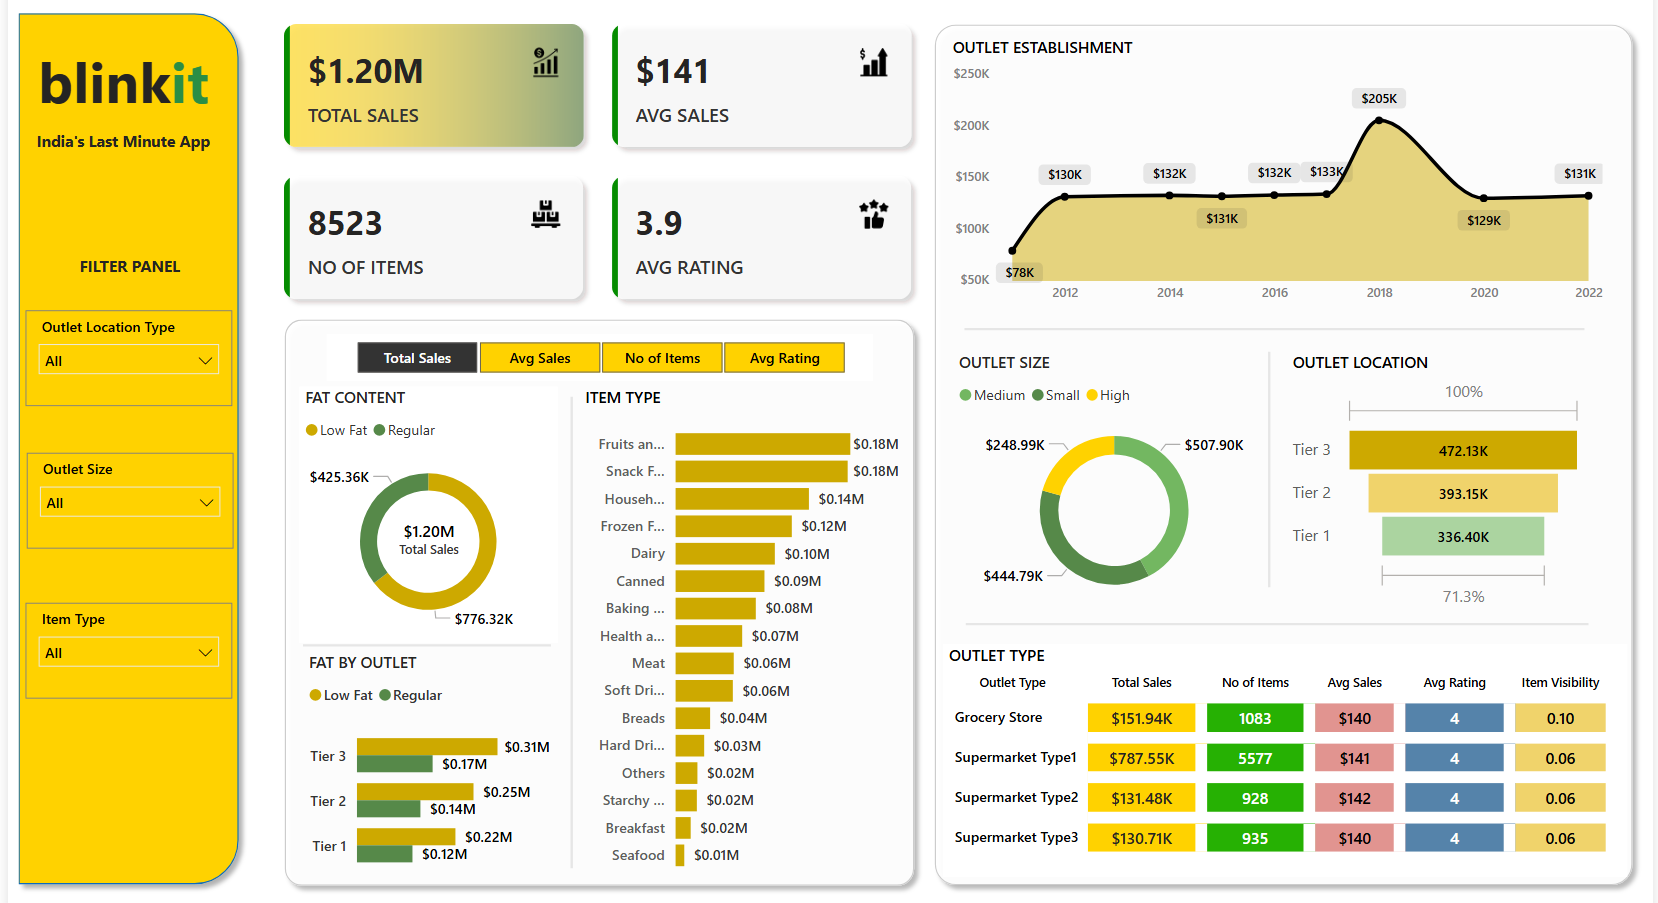

The dashboard page shown, as its layout file describes it:
{"tool":"powerbi","page":{"name":"Page 1","canvas":[1400,800],"ordinal":0},"visuals":[{"type":"shape","box":[0,24.7,205.3,759.4],"z":0},{"type":"textbox","box":[16.1,53.6,164.9,73.7],"z":1000},{"type":"textbox","box":[14.8,127.3,166.2,32.2],"z":2000},{"type":"cardVisual","fields":{"Data":["BlinkIT Grocery Data.Total Sales","BlinkIT Grocery Data.Avg Sales","BlinkIT Grocery Data.No of Items","BlinkIT Grocery Data.Avg Rating"]},"box":[218.5,25.5,569.7,269.4],"z":3000},{"type":"shape","box":[226.2,285,553.8,500],"z":4000},{"type":"donutChart","title":"FAT CONTENT","fields":{"Y":["BlinkIT Grocery Data.Total Sales"],"Category":["BlinkIT Grocery Data.Item Fat Content"]},"box":[248,351,220,218.8],"z":5000},{"type":"slicer","fields":{"Values":["Parameter.Parameter"]},"box":[271.2,306.2,465,40],"z":6000},{"type":"cardVisual","fields":{"Data":["BlinkIT Grocery Data.Total Sales"]},"box":[310.3,447.7,95.4,64.9],"z":7000},{"type":"clusteredBarChart","title":"FAT BY OUTLET","fields":{"Y":["BlinkIT Grocery Data.Total Sales"],"Category":["BlinkIT Grocery Data.Outlet Location Type"],"Series":["BlinkIT Grocery Data.Item Fat Content"]},"box":[251.1,576.4,215.2,201.6],"z":8000},{"type":"shape","box":[250.6,560.9,211.1,21.6],"z":9000},{"type":"shape","box":[473.1,359.9,12.7,401.9],"z":10000},{"type":"barChart","title":"ITEM TYPE","fields":{"Y":["BlinkIT Grocery Data.Total Sales"],"Category":["BlinkIT Grocery Data.Item Type"]},"box":[486.1,351.3,277.1,423],"z":11000},{"type":"shape","box":[779.6,34.3,611.7,750.4],"z":12000},{"type":"lineChart","title":"OUTLET ESTABLISHMENT","fields":{"Category":["BlinkIT Grocery Data.Outlet Establishment Year"],"Y":["BlinkIT Grocery Data.Total Sales"]},"box":[798.7,53.4,563.4,235.3],"z":13000},{"type":"donutChart","title":"OUTLET SIZE","fields":{"Y":["BlinkIT Grocery Data.Total Sales"],"Category":["BlinkIT Grocery Data.Outlet Size"]},"box":[803.8,321.8,274.7,225.1],"z":14000},{"type":"shape","box":[1067,321.8,12.7,200.9],"z":15000},{"type":"funnel","title":"OUTLET LOCATION","fields":{"Y":["Sum(BlinkIT Grocery Data.Sales)"],"Category":["BlinkIT Grocery Data.Outlet Location Type"]},"box":[1088.4,321.6,257.3,223.9],"z":16000},{"type":"shape","box":[815.2,545.6,530.3,15.3],"z":17000},{"type":"shape","box":[814,295.1,527.8,15.3],"z":18000},{"type":"pivotTable","title":"OUTLET TYPE","fields":{"Rows":["BlinkIT Grocery Data.Outlet Type"],"Values":["BlinkIT Grocery Data.Total Sales","BlinkIT Grocery Data.No of Items","BlinkIT Grocery Data.Avg Sales","BlinkIT Grocery Data.Avg Rating","Avg(BlinkIT Grocery Data.Item Visibility)"]},"box":[796.1,569.8,582.5,198.4],"z":19000},{"type":"slicer","fields":{"Values":["BlinkIT Grocery Data.Outlet Location Type"]},"box":[14.8,285.7,175.6,81.6],"z":19001},{"type":"slicer","fields":{"Values":["BlinkIT Grocery Data.Outlet Size"]},"box":[16.1,406.9,175.6,81.6],"z":19002},{"type":"slicer","fields":{"Values":["BlinkIT Grocery Data.Item Type"]},"box":[14.8,535.6,175.6,81.6],"z":19003},{"type":"textbox","box":[17.3,233.8,173.2,33.4],"z":19004}]}

Visuals, with their boxes on the page's 1400x800 design canvas (x1, y1, x2, y2). These are canvas units, not pixel positions in the 1658x903 screenshot, which may show the page scaled, cropped or inside an application window:
shape: Rect(0, 25, 205, 784)
textbox: Rect(16, 54, 181, 127)
textbox: Rect(15, 127, 181, 160)
cardVisual - BlinkIT Grocery Data.Total Sales x BlinkIT Grocery Data.Avg Sales: Rect(218, 26, 788, 295)
shape: Rect(226, 285, 780, 785)
"FAT CONTENT" donutChart: Rect(248, 351, 468, 570)
slicer - Parameter.Parameter: Rect(271, 306, 736, 346)
cardVisual - BlinkIT Grocery Data.Total Sales: Rect(310, 448, 406, 513)
"FAT BY OUTLET" clusteredBarChart: Rect(251, 576, 466, 778)
shape: Rect(251, 561, 462, 582)
shape: Rect(473, 360, 486, 762)
"ITEM TYPE" barChart: Rect(486, 351, 763, 774)
shape: Rect(780, 34, 1391, 785)
"OUTLET ESTABLISHMENT" lineChart: Rect(799, 53, 1362, 289)
"OUTLET SIZE" donutChart: Rect(804, 322, 1078, 547)
shape: Rect(1067, 322, 1080, 523)
"OUTLET LOCATION" funnel: Rect(1088, 322, 1346, 546)
shape: Rect(815, 546, 1346, 561)
shape: Rect(814, 295, 1342, 310)
"OUTLET TYPE" pivotTable: Rect(796, 570, 1379, 768)
slicer - BlinkIT Grocery Data.Outlet Location Type: Rect(15, 286, 190, 367)
slicer - BlinkIT Grocery Data.Outlet Size: Rect(16, 407, 192, 488)
slicer - BlinkIT Grocery Data.Item Type: Rect(15, 536, 190, 617)
textbox: Rect(17, 234, 190, 267)
